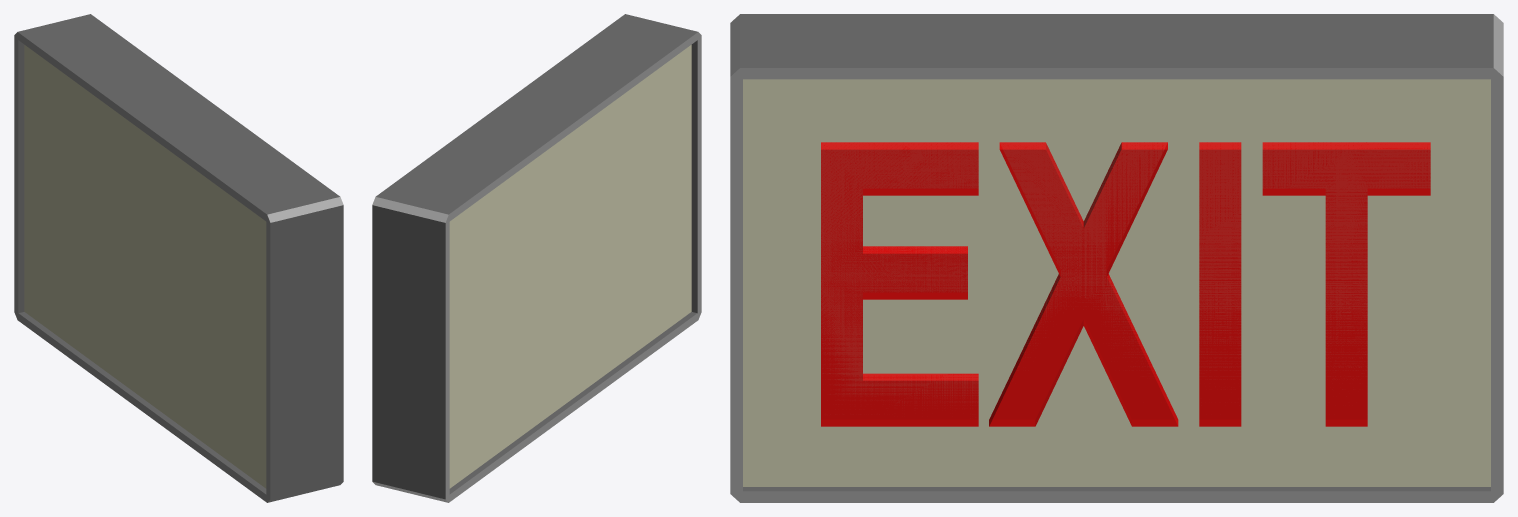
File: ExitSign.fbx
3 renders of one model, left to right at view 1: azimuth 30°, elevation 25°; view 2: azimuth 150°, elevation 25°; view 3: azimuth 270°, elevation 25°, orthographic. The views are drawn at different scales.
Visible parts, largest first — view 1: ExitSignBody; view 2: ExitSignBody; view 3: ExitSignBody, EXIT_Text.
Part boxes in pixels (x1,y1,x2,y2): ExitSignBody: (14, 14, 343, 502); ExitSignBody: (372, 14, 701, 502); ExitSignBody: (730, 14, 1503, 502); EXIT_Text: (821, 142, 1430, 426).
Size of the model in its own units: 6.84 by 24.49 by 39.45.
